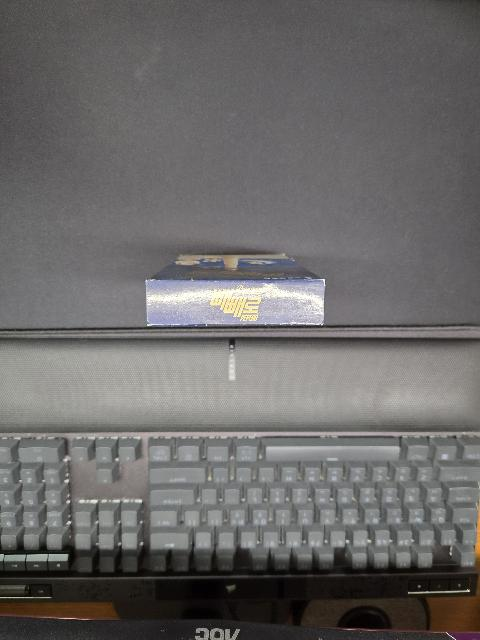pepero: (145, 253, 325, 326)
